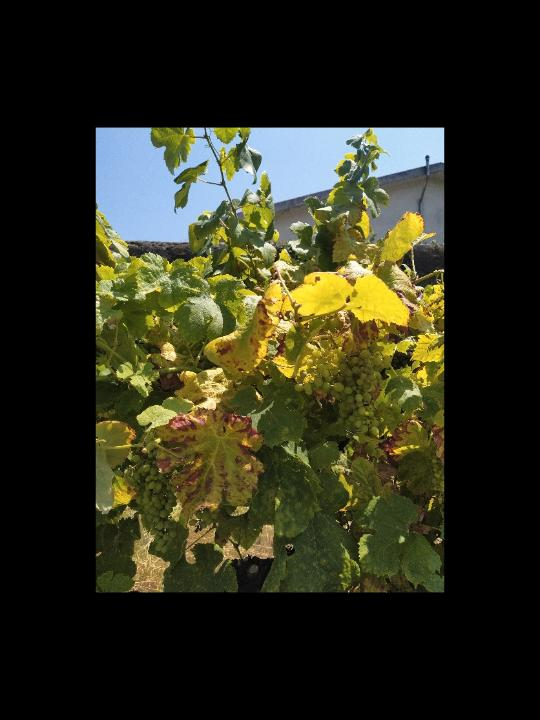grape: (294, 341, 382, 437), (122, 450, 178, 554)
